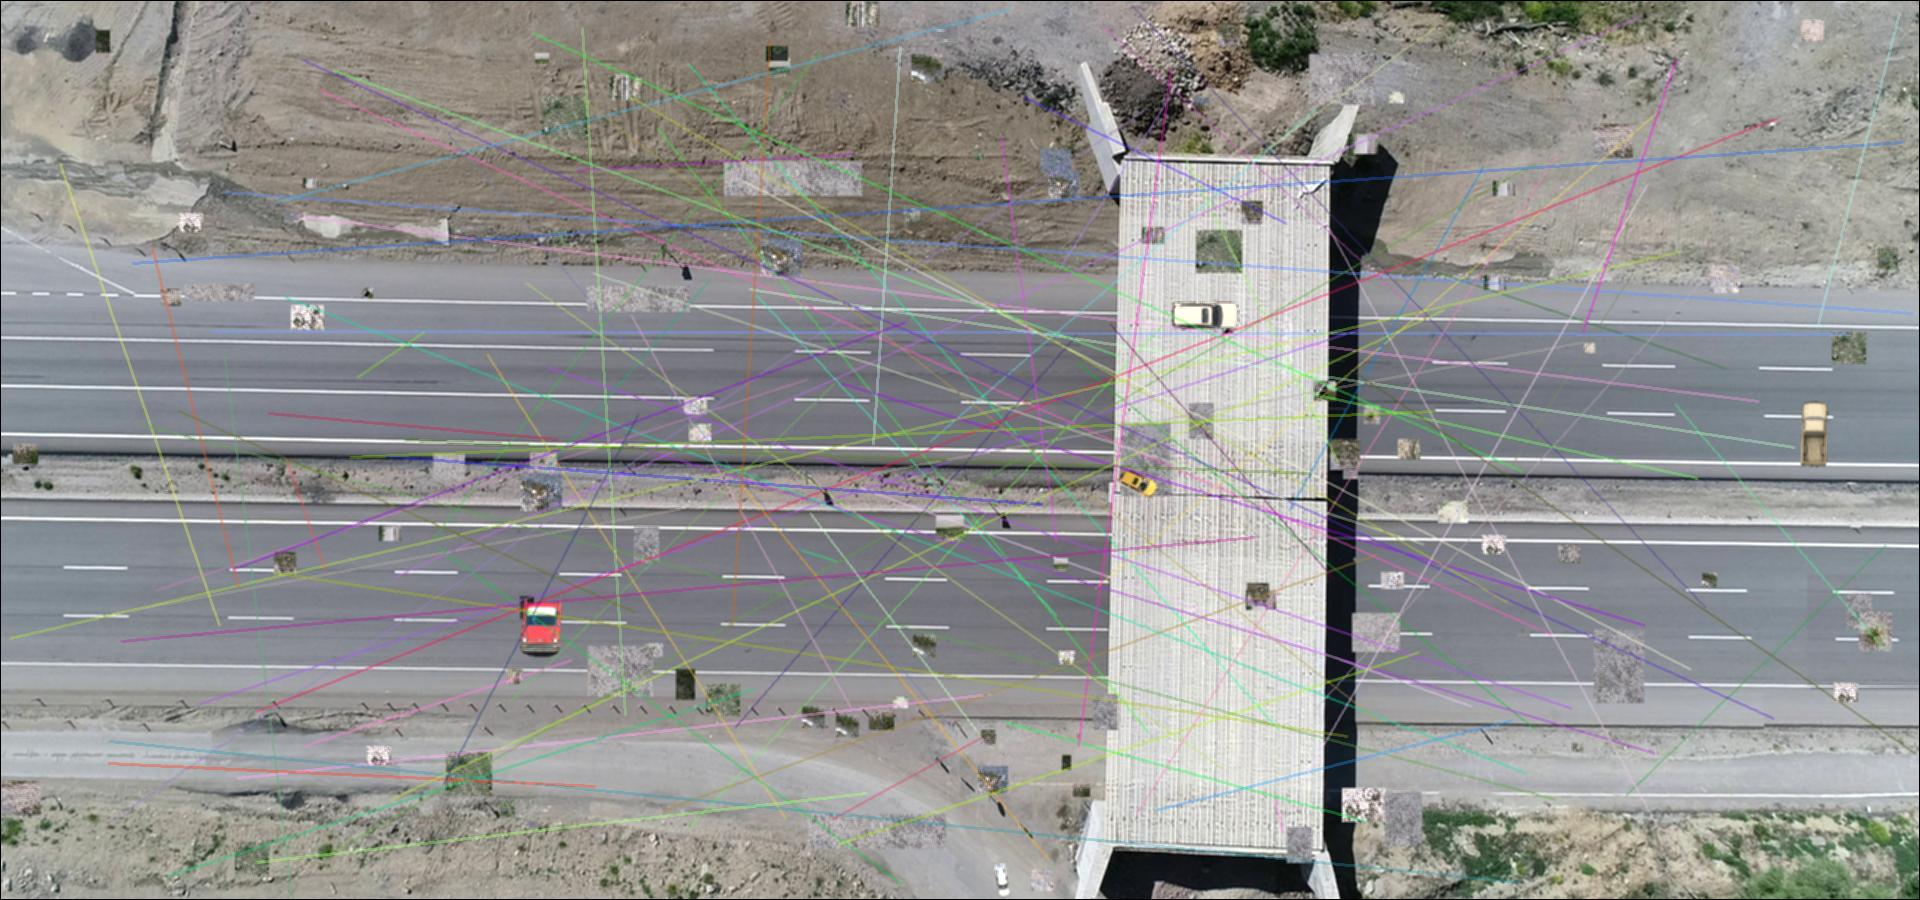arac: (520, 599, 564, 658), (1171, 299, 1242, 333), (1798, 400, 1829, 469), (1117, 468, 1158, 497), (993, 864, 1011, 898)
